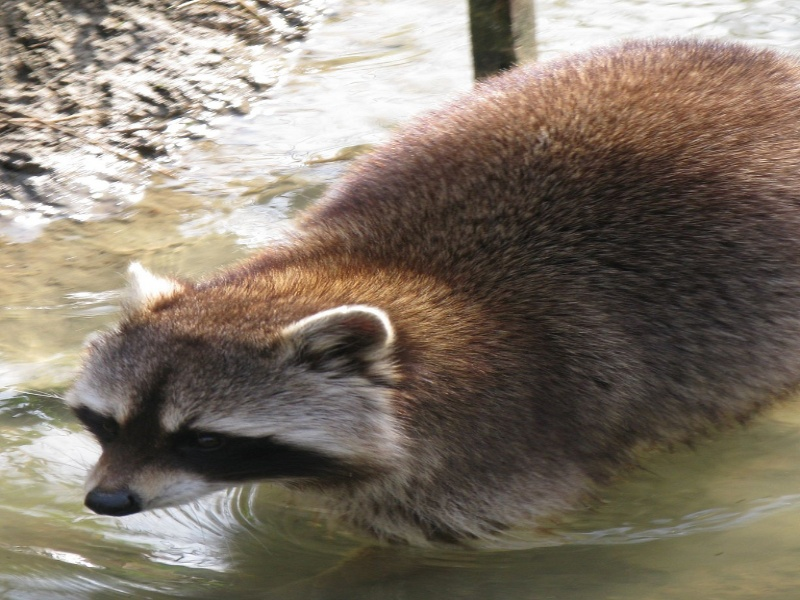raccoon: (67, 44, 798, 550)
